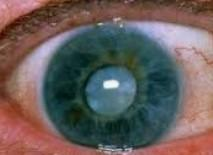eye: (49, 30, 178, 148)
